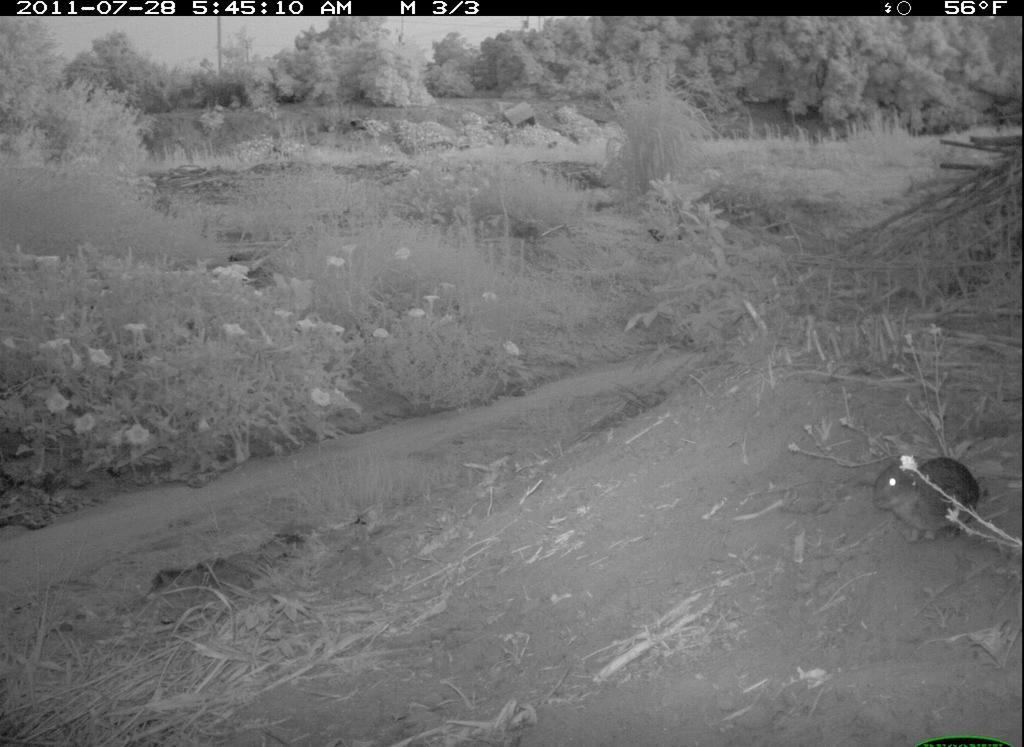rabbit: (866, 428, 993, 555)
